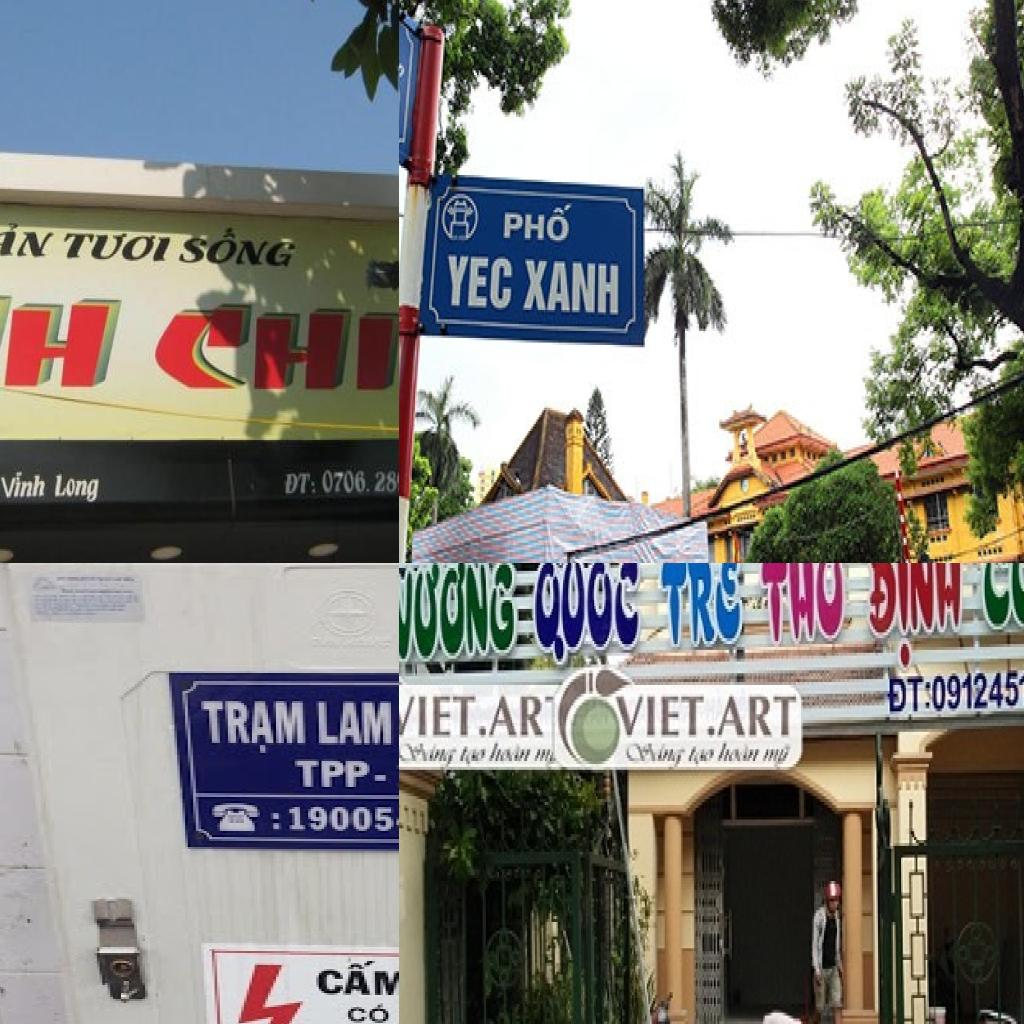text: (150, 296, 399, 397), (0, 285, 128, 394), (530, 563, 643, 676), (399, 563, 520, 667), (864, 563, 968, 673), (653, 563, 750, 655), (756, 563, 850, 653), (518, 254, 624, 319), (174, 222, 302, 272), (199, 701, 308, 757), (929, 658, 1024, 717), (614, 694, 709, 743), (58, 227, 176, 266), (444, 252, 516, 315), (399, 690, 477, 740), (716, 694, 799, 740), (499, 198, 575, 247), (316, 701, 394, 747), (286, 805, 399, 835), (316, 961, 399, 999), (292, 761, 399, 789), (487, 694, 550, 740), (883, 670, 936, 720), (0, 216, 59, 260), (619, 740, 691, 772), (399, 740, 462, 772), (53, 469, 104, 507), (0, 465, 50, 501), (486, 740, 535, 767), (716, 740, 764, 767), (762, 740, 796, 772), (282, 469, 319, 498), (345, 1001, 391, 1024), (686, 740, 719, 770), (399, 42, 409, 140), (456, 743, 489, 770), (532, 746, 555, 767), (271, 811, 281, 833)
